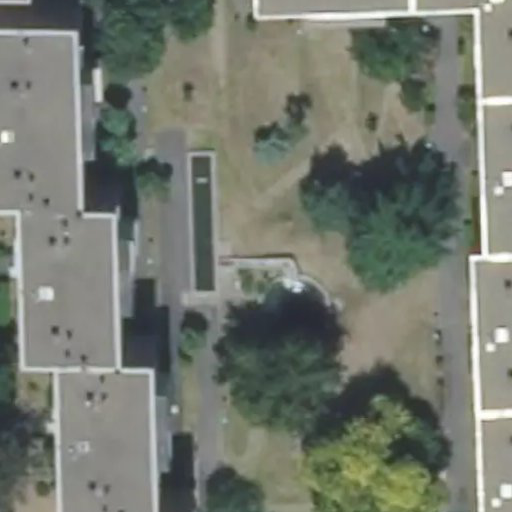pool: (116, 200, 342, 307)
